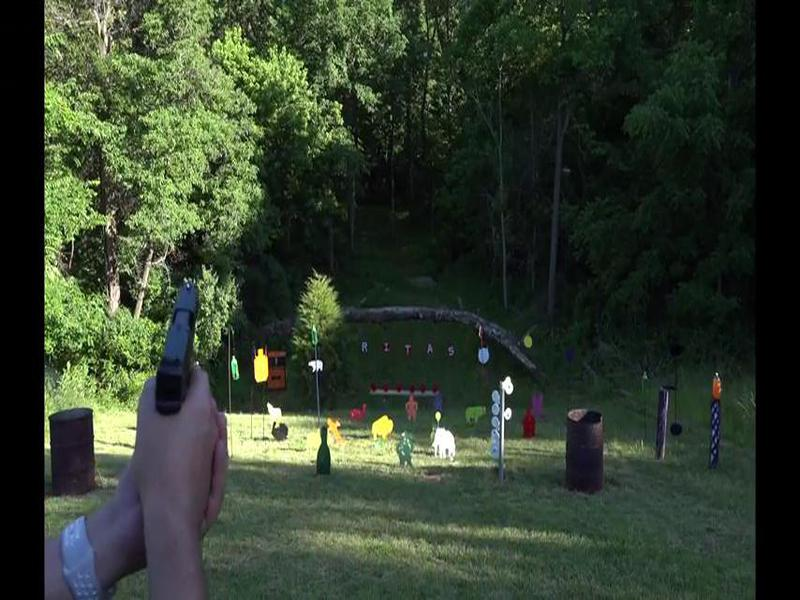Pistola: (151, 274, 210, 418)
